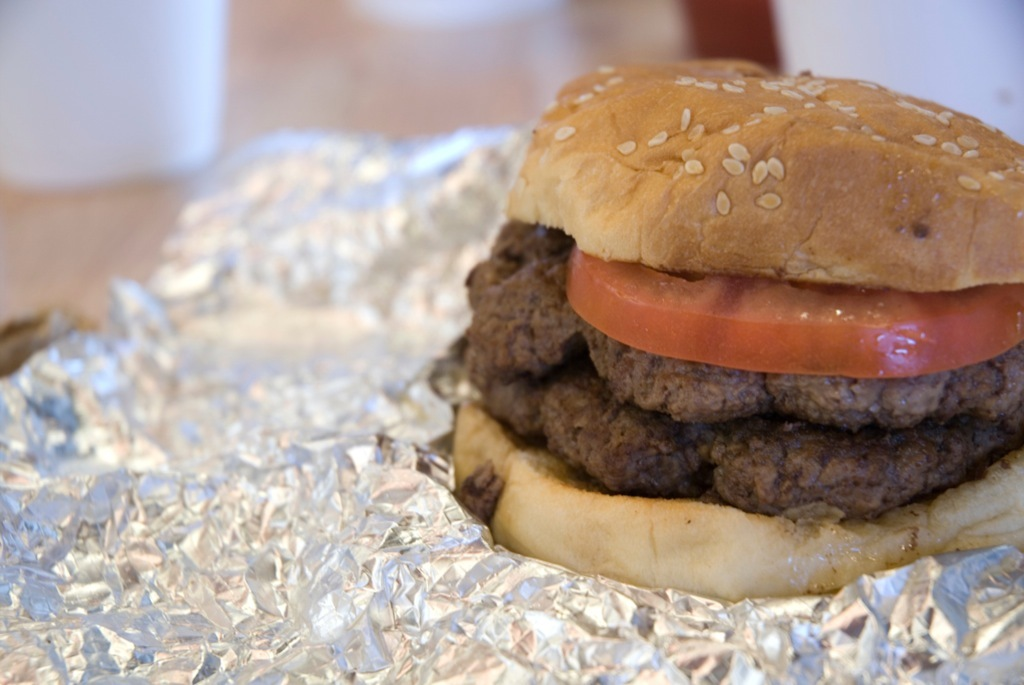Hamburger: (433, 55, 1022, 598)
